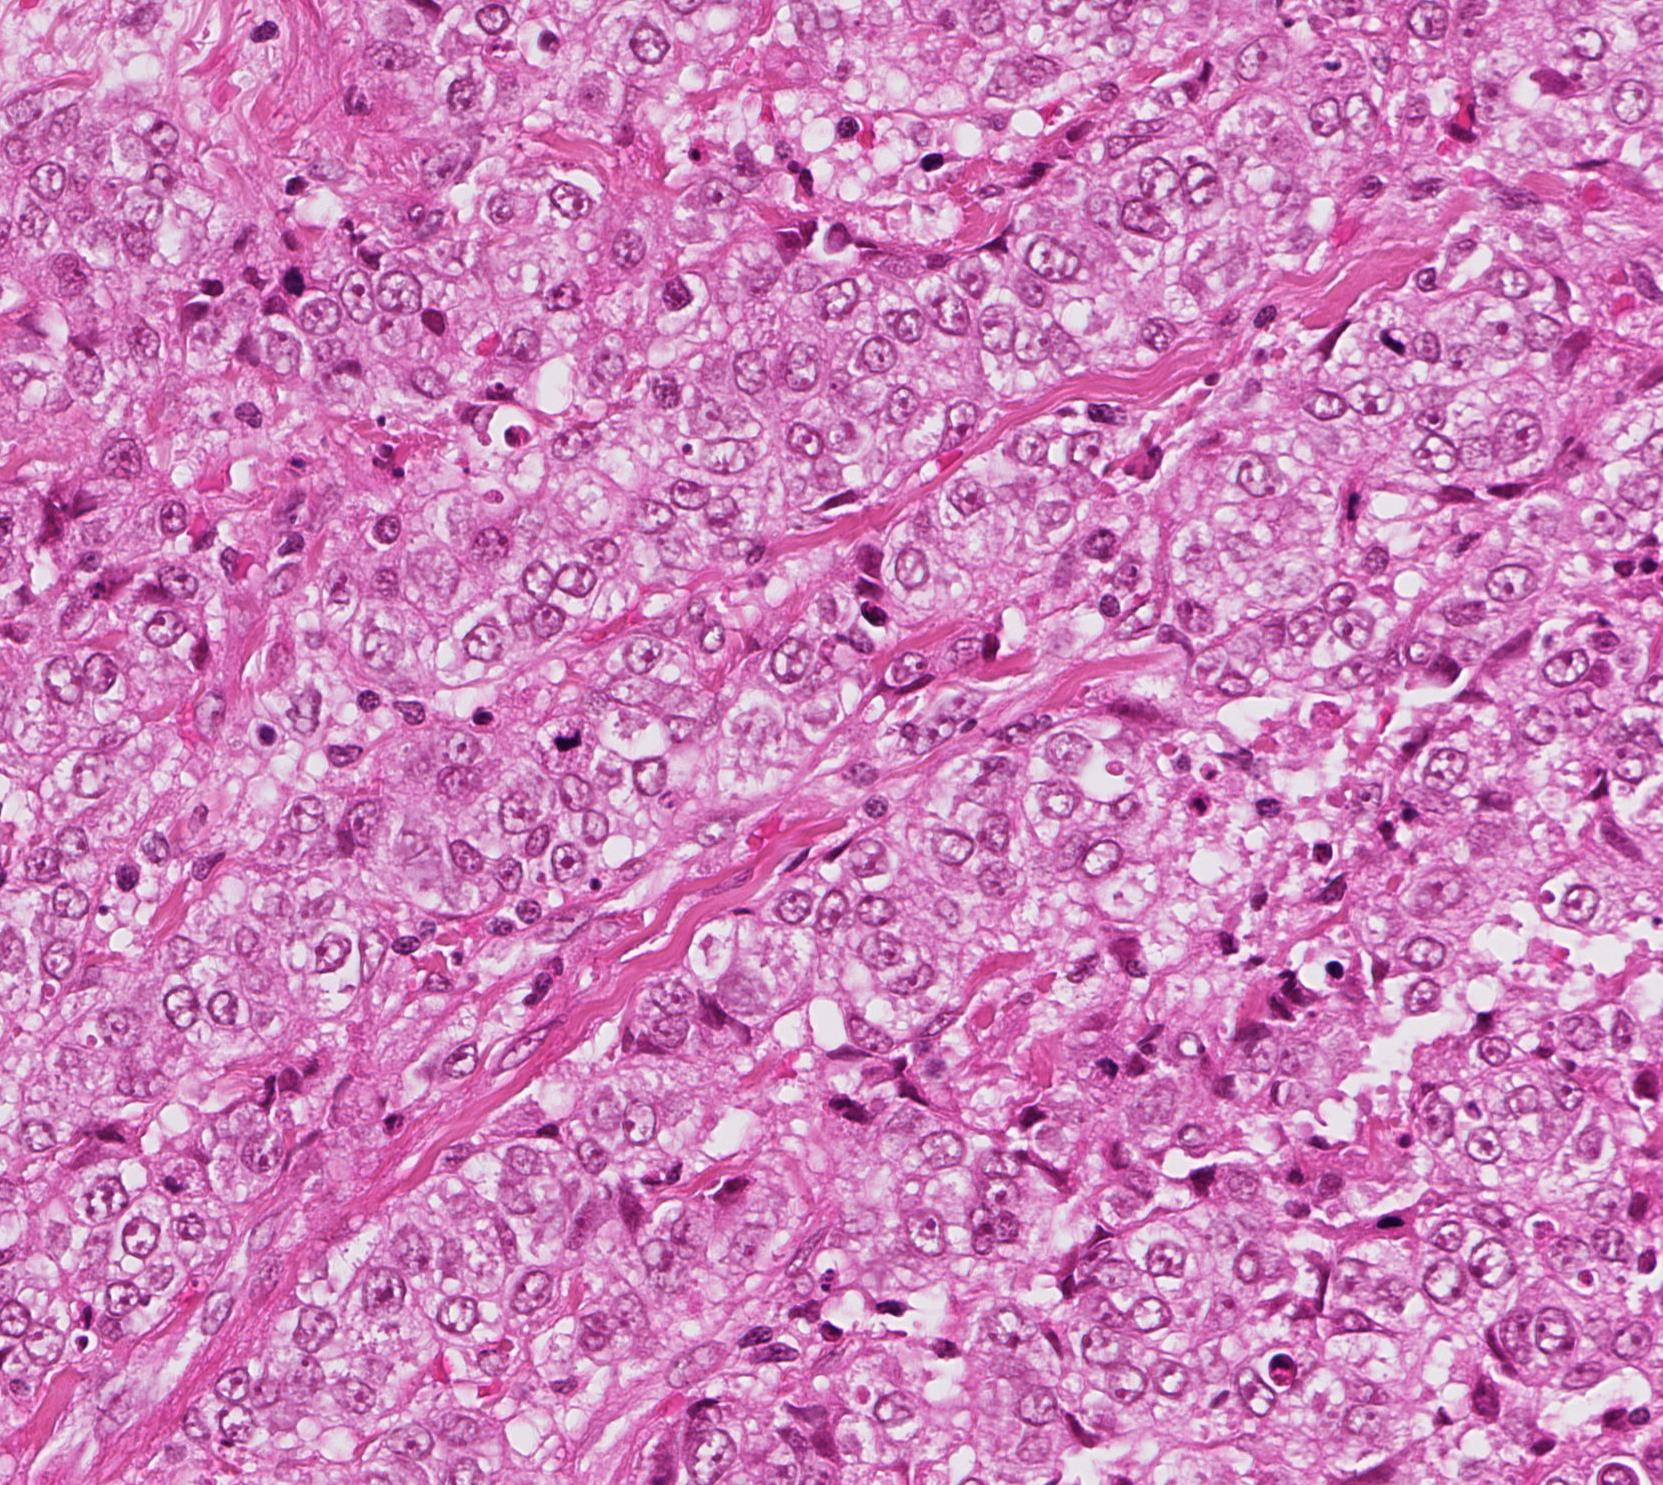mitosis: (258, 248, 318, 308), (1074, 1031, 1134, 1089)
